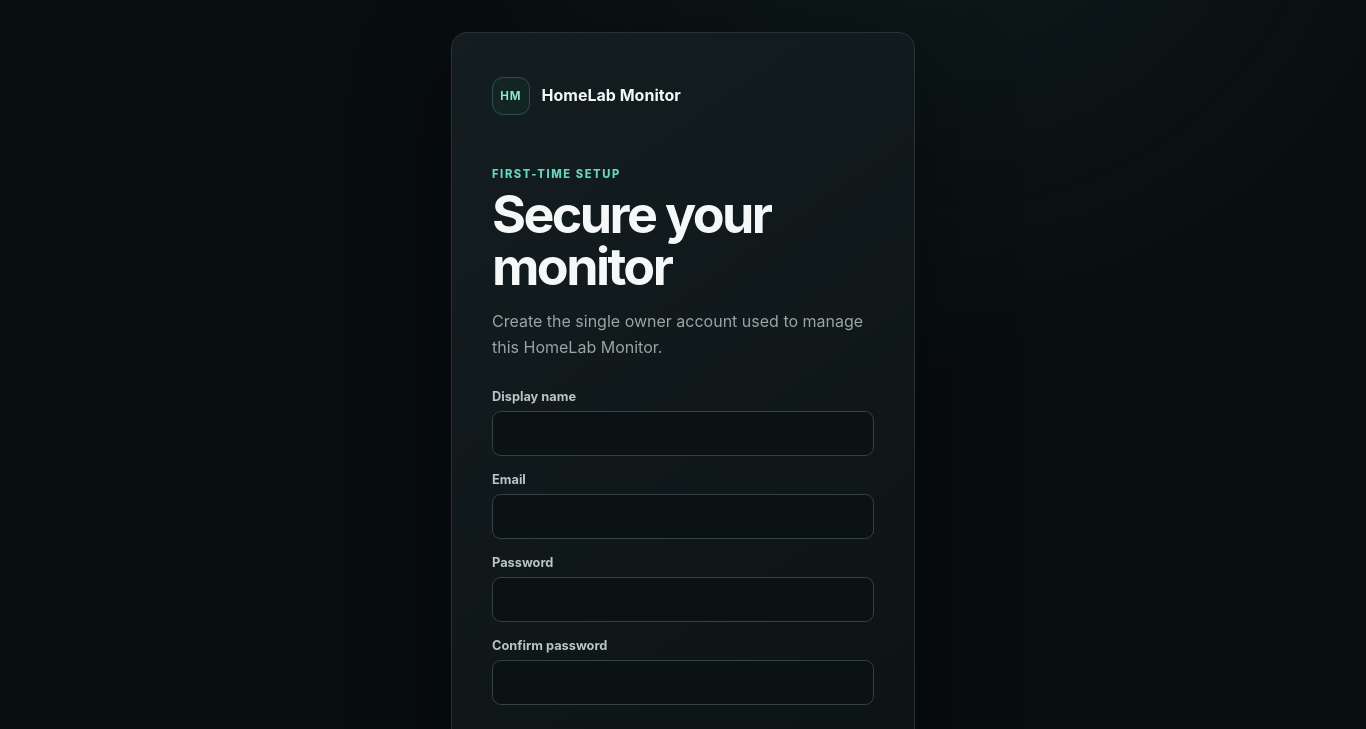
Test: monitoring dashboard › creates the single owner account with a CSRF-protected request
The width and height of the screenshot is (1366, 729).
Expected: the heading "Secure your monitor" is shown, [492,183,770,298]
Type "Lab Owner" into the field labelled "Display name" at (683, 433), box [492,411,874,456]
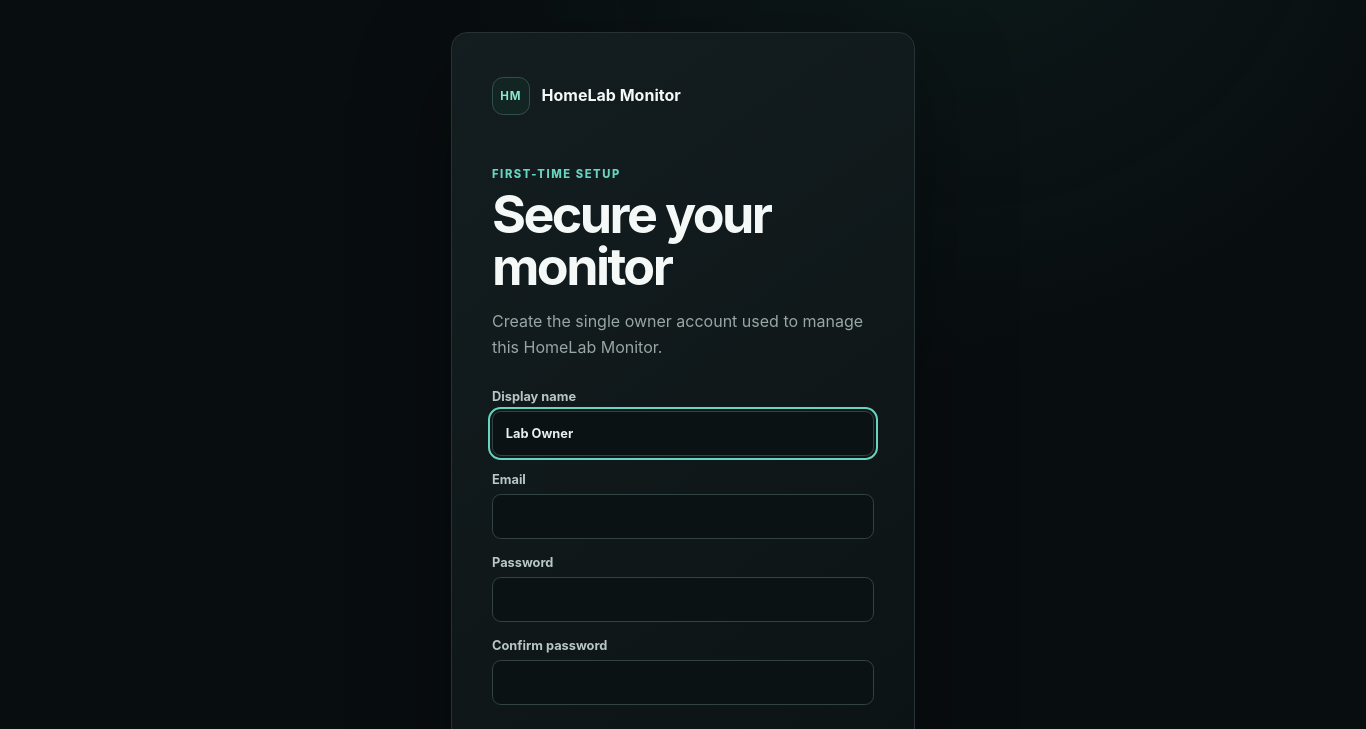
Type "owner@example.com" into the field labelled "Email" at (683, 516), box [492,494,874,539]
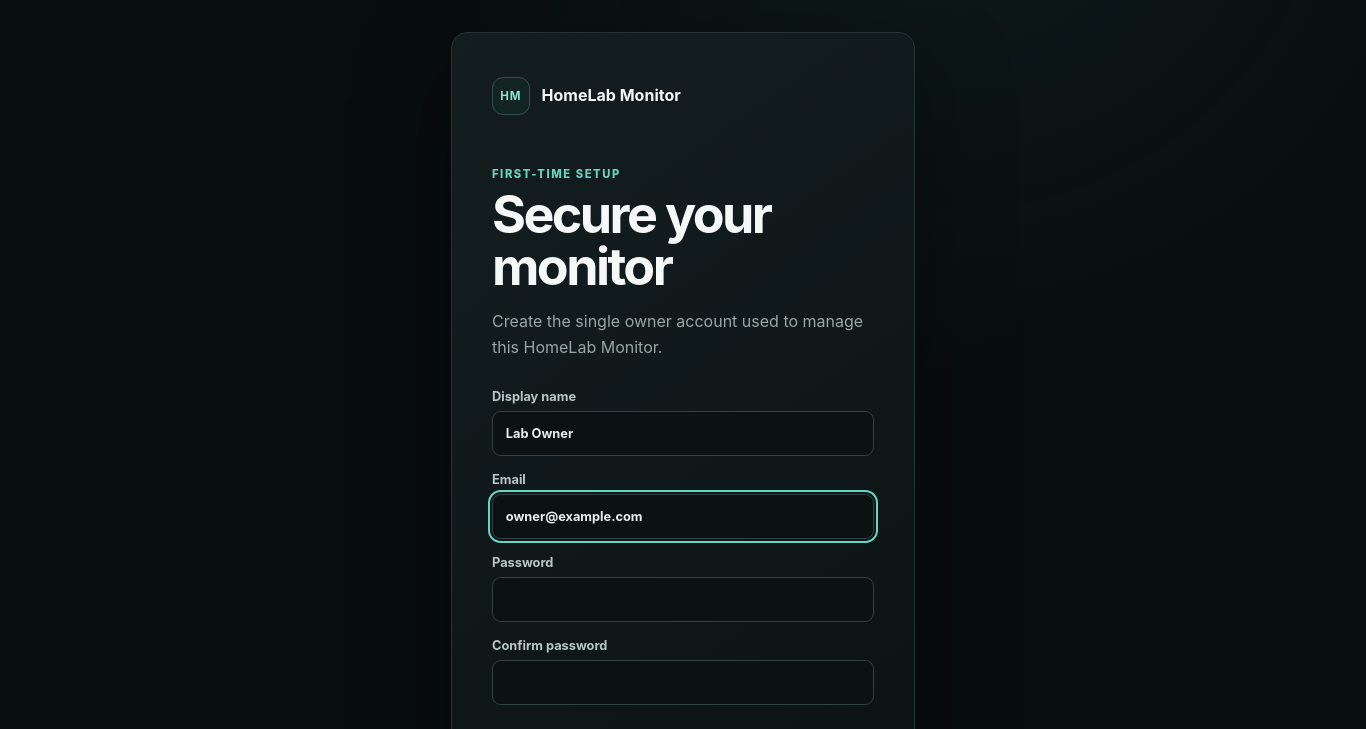
Type "correct horse battery staple" into the password field labelled "Password" at (683, 599), box [492,577,874,622]
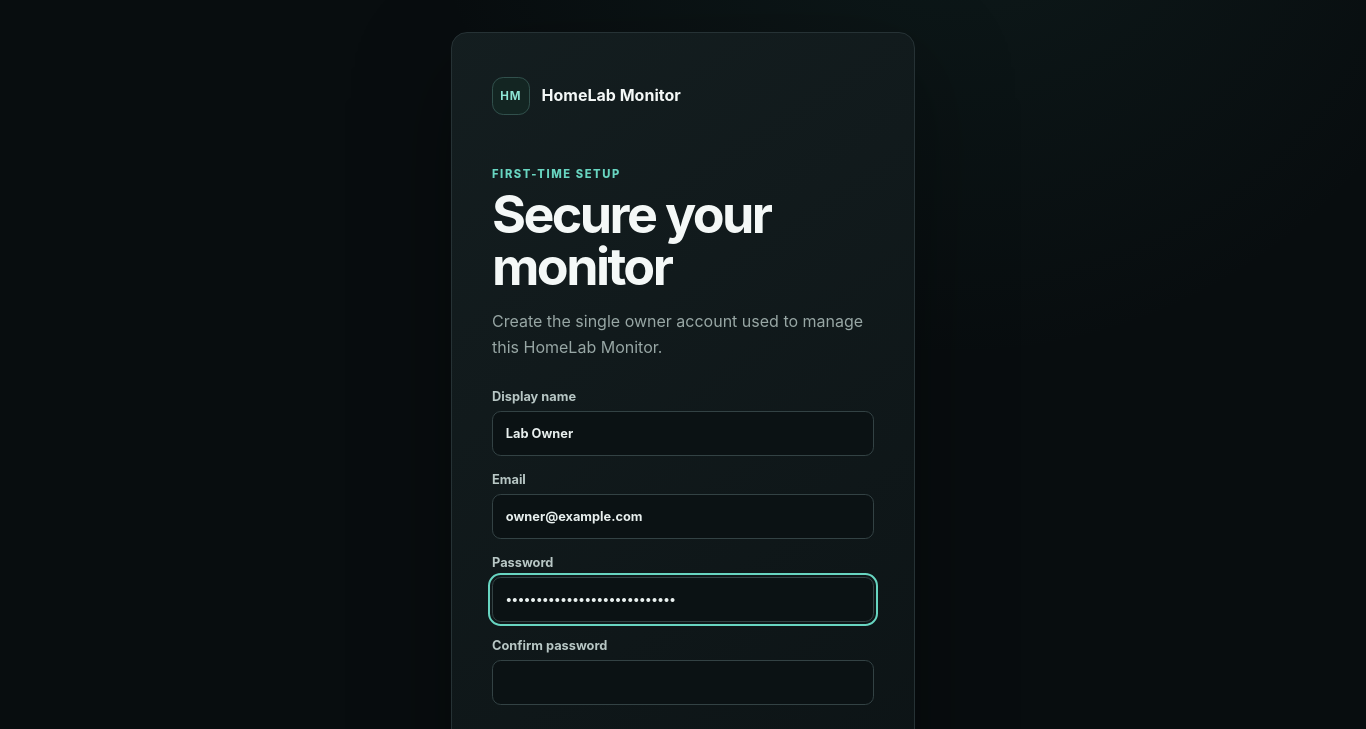
Type "correct horse battery staple" into the password field labelled "Confirm password" at (683, 682), box [492,660,874,704]
(page scrolled)
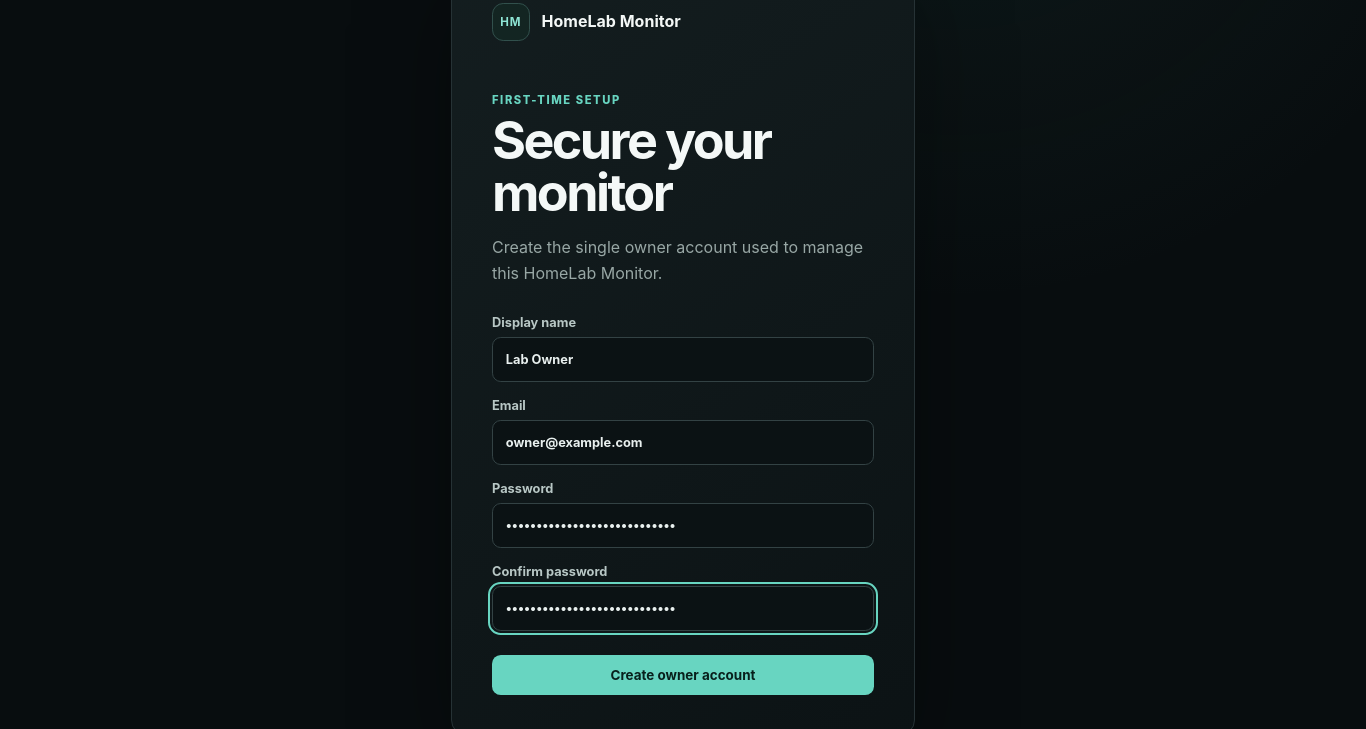
Click the button "Create owner account" at (683, 675), box [492,654,874,695]
(page scrolled)
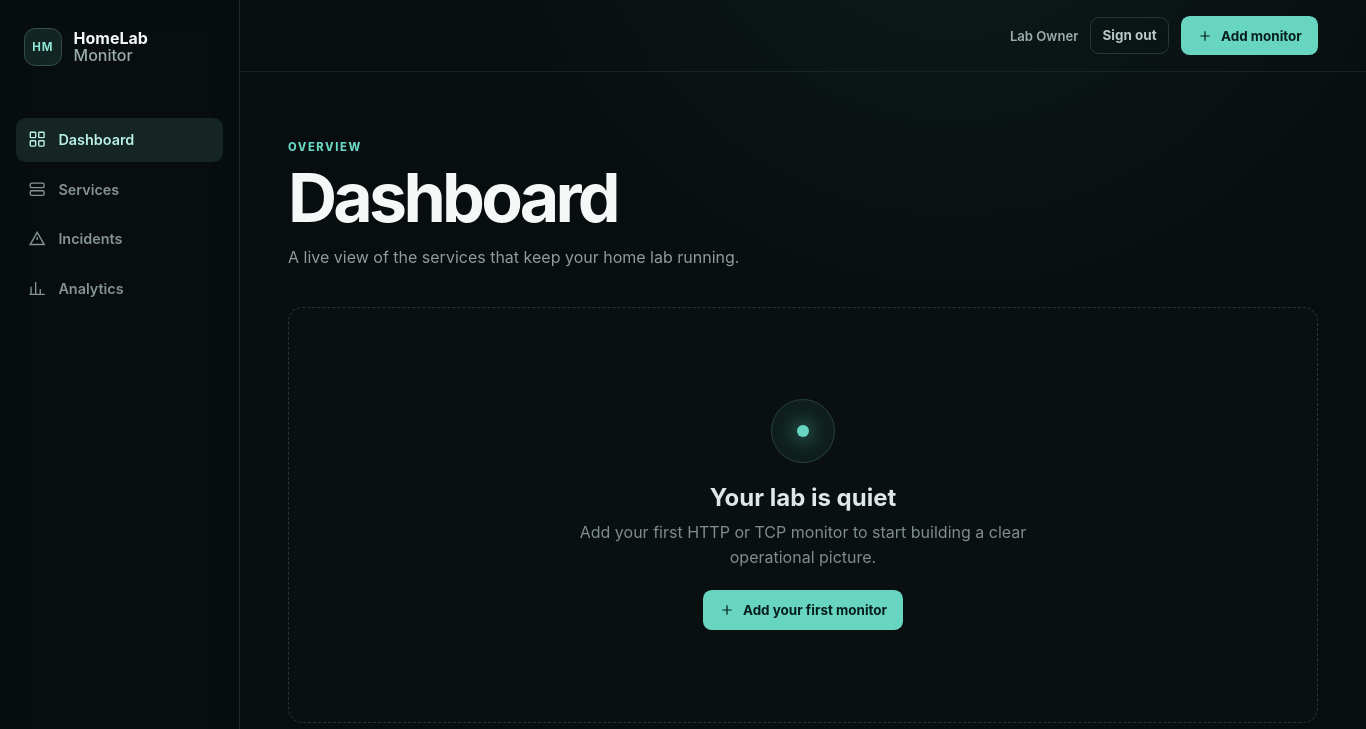
Now the heading "Dashboard" is shown, box [288,156,617,238]
